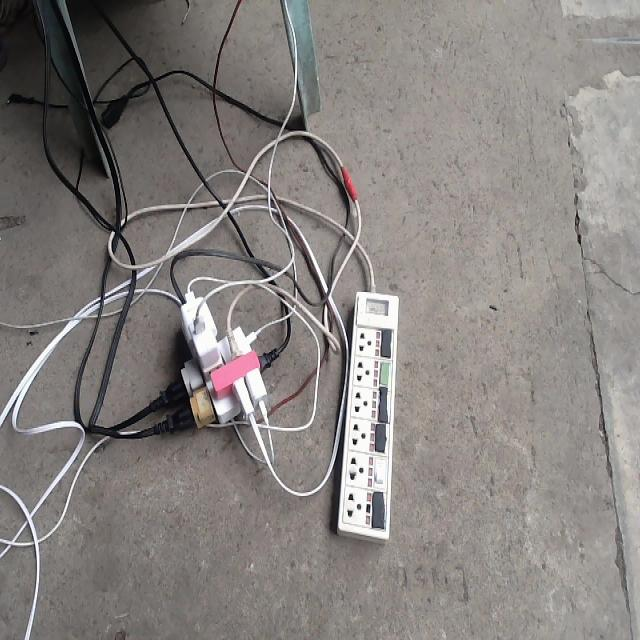-: (152, 288, 279, 437)
